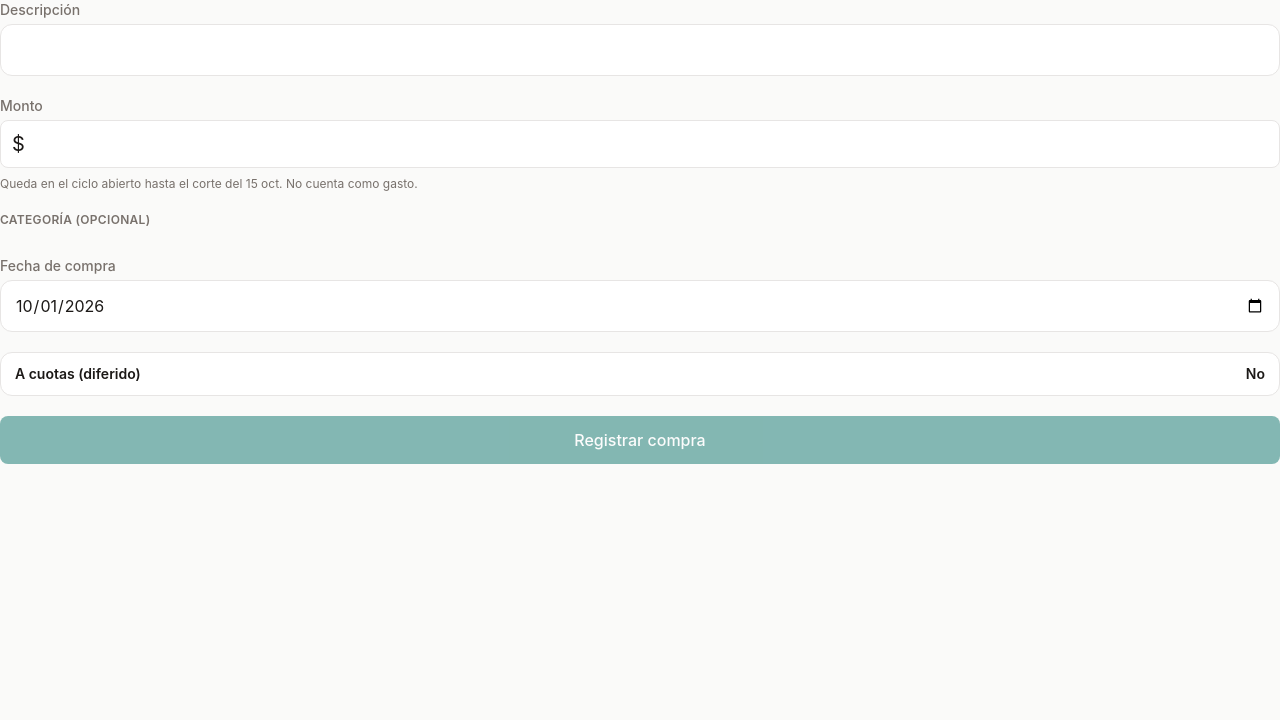
Test: PurchaseForm › names the cutoff of the cycle holding an edited first installment date
This screenshot has width=1280, height=720.
Click the switch labelled "A cuotas (diferido) No".
click(78, 374)  # box [0,352,1279,396]
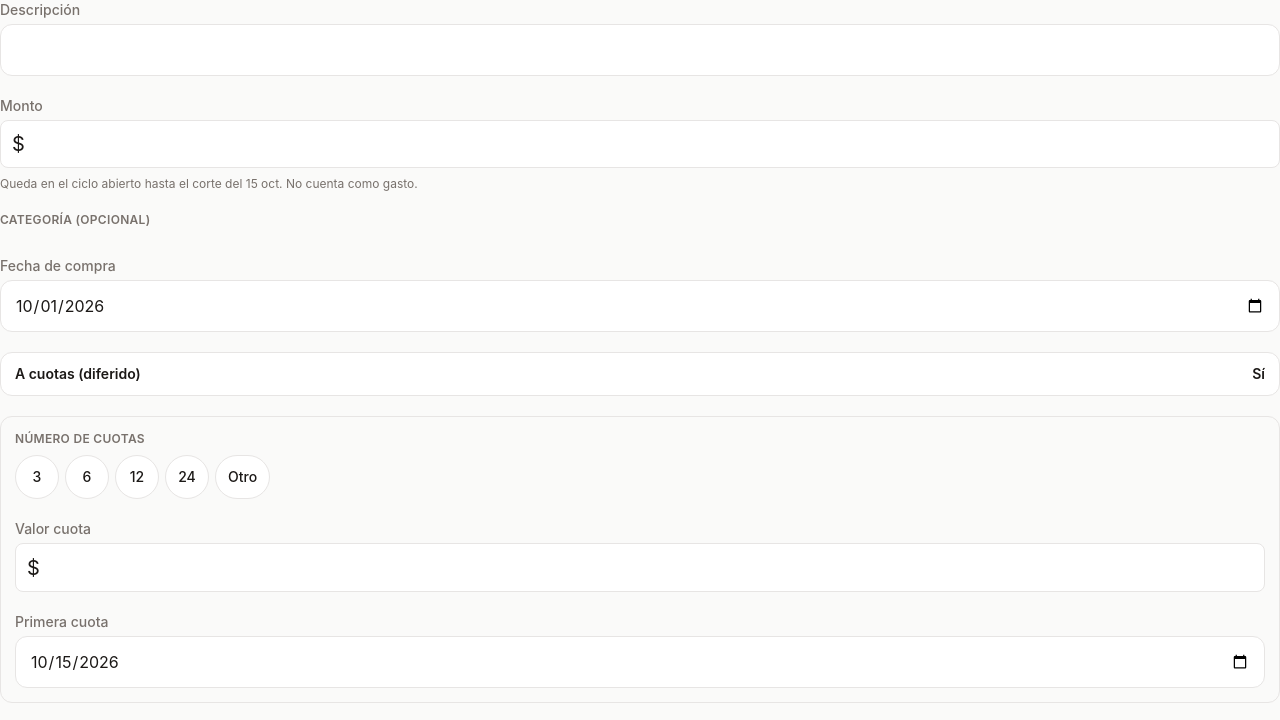
Click the button "6".
click(87, 477)  # box [65,455,109,499]
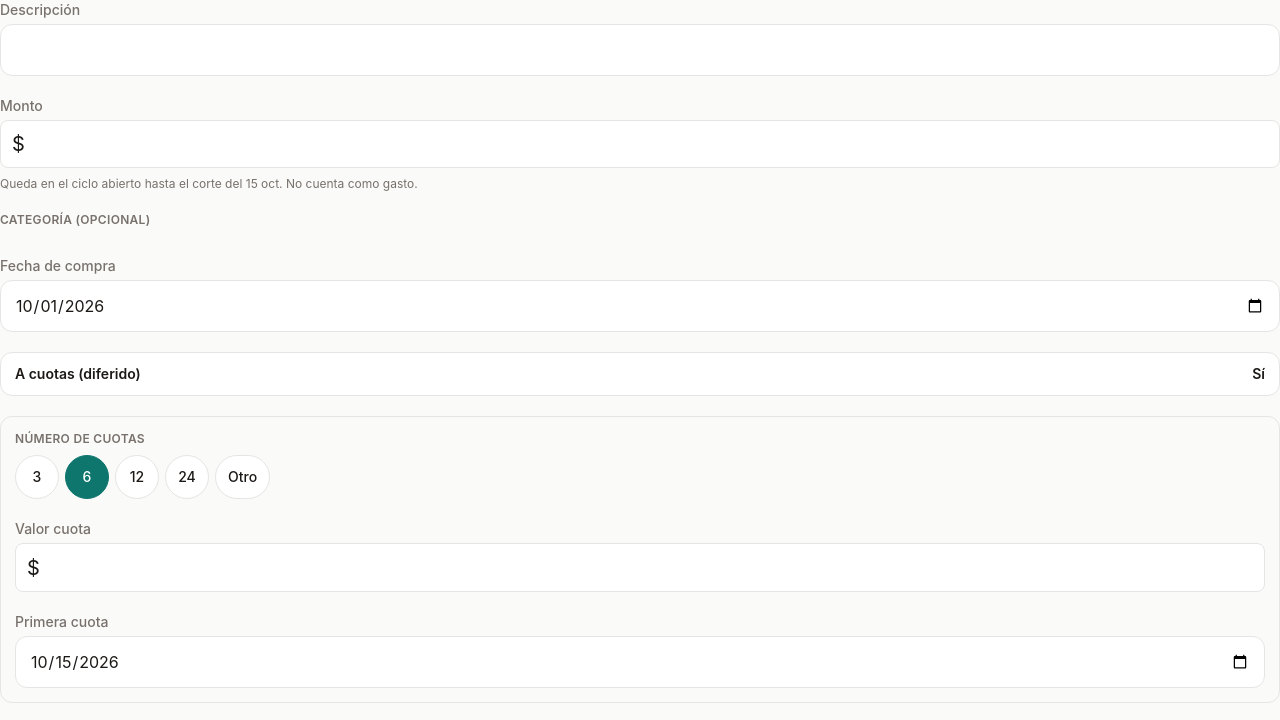
Type "Colchón" into the field labelled "Descripción".
click(640, 50); type("Colchón")  # box [0,24,1279,76]
Type "1.080.000" into the field labelled "Monto".
click(640, 144); type("1.080.000")  # box [0,120,1279,168]
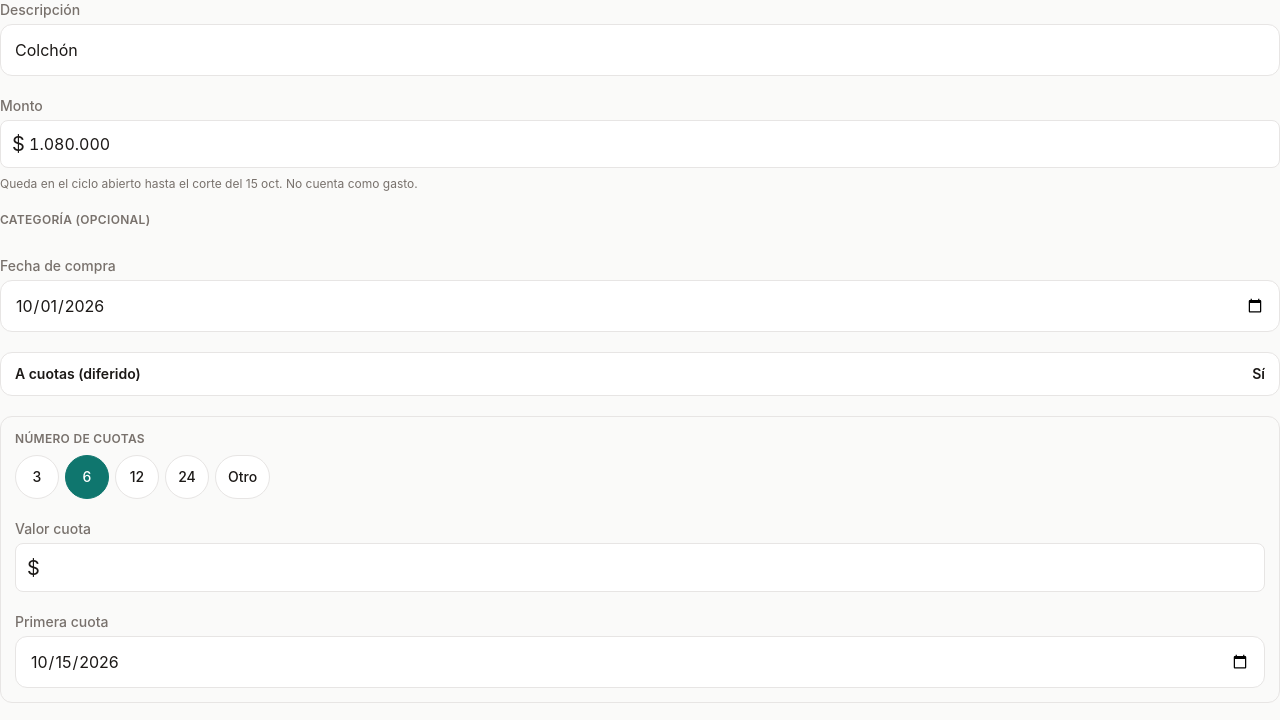
Type "18.000" into the field labelled "Valor cuota".
click(640, 568); type("18.000")  # box [15,543,1265,592]
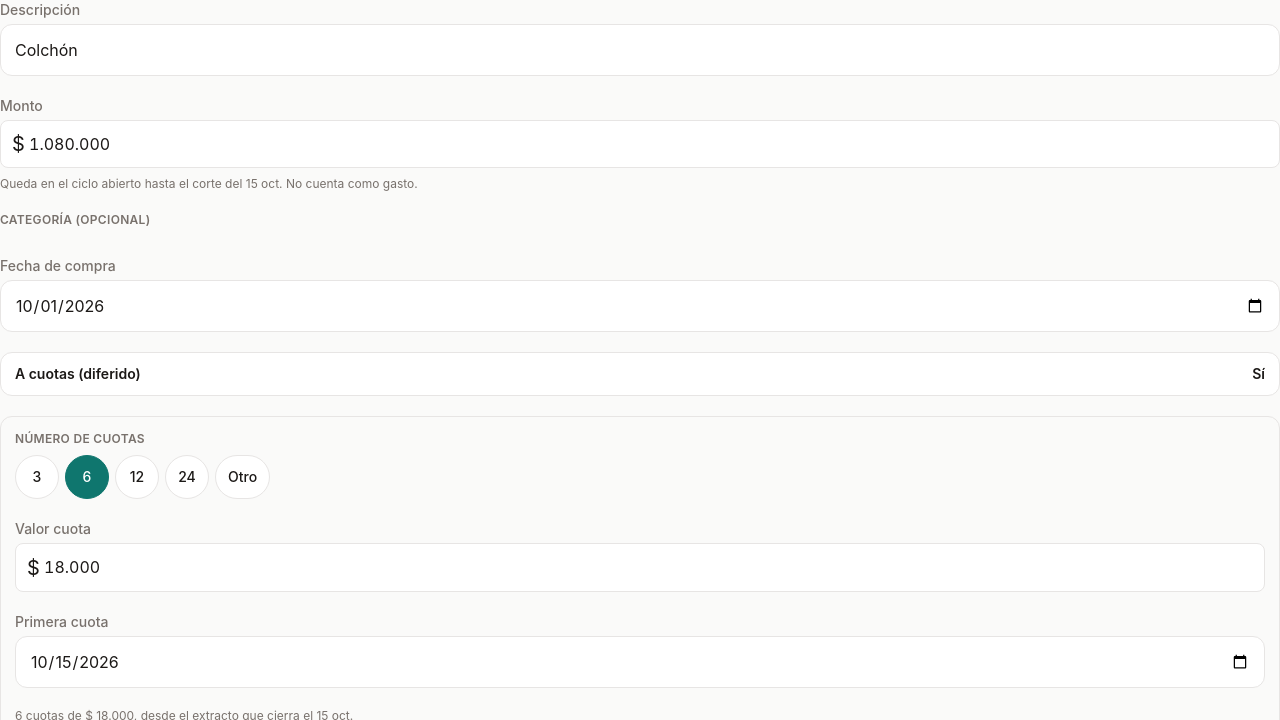
Type "2026-10-20" into the date field labelled "Primera cuota".
click(640, 662); type("2026-10-20")  # box [15,636,1265,688]
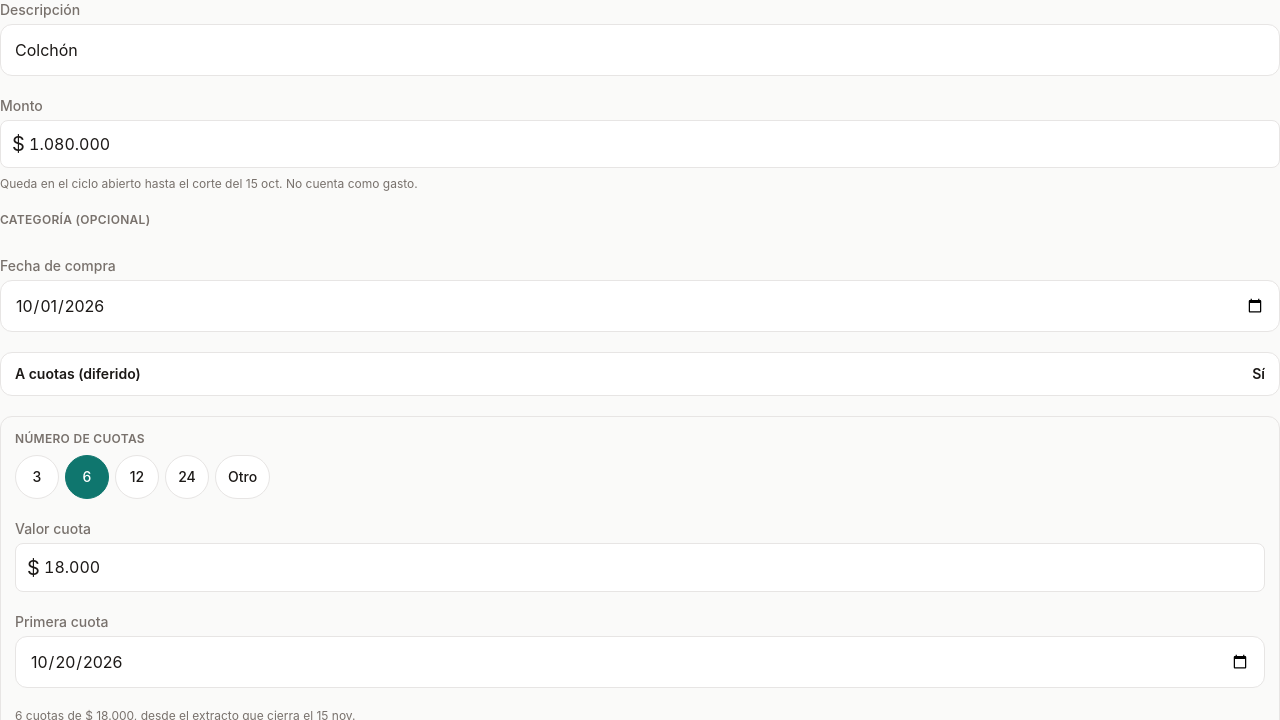
Type "2026-10-15" into the date field labelled "Primera cuota".
click(640, 662); type("2026-10-15")  # box [15,636,1265,688]
(page scrolled)
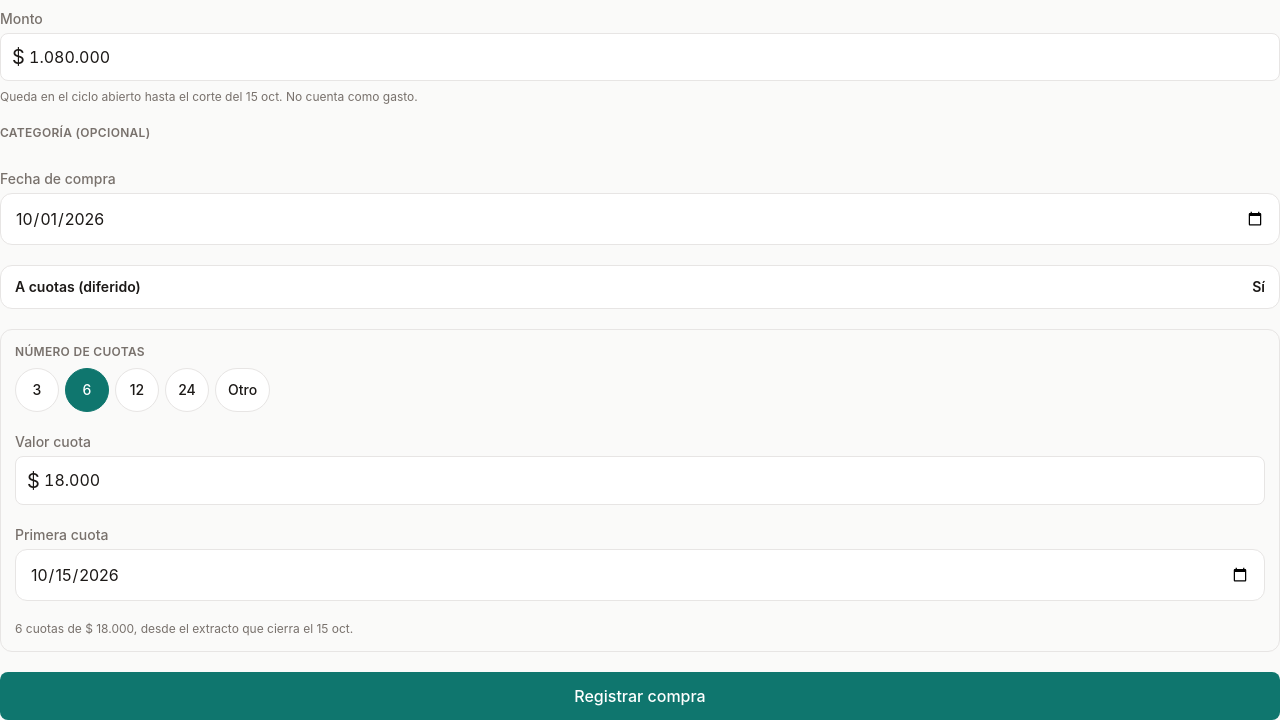
Expected: the text "desde el extracto que cierra el 15 oct." is shown, [15,621,353,636]
